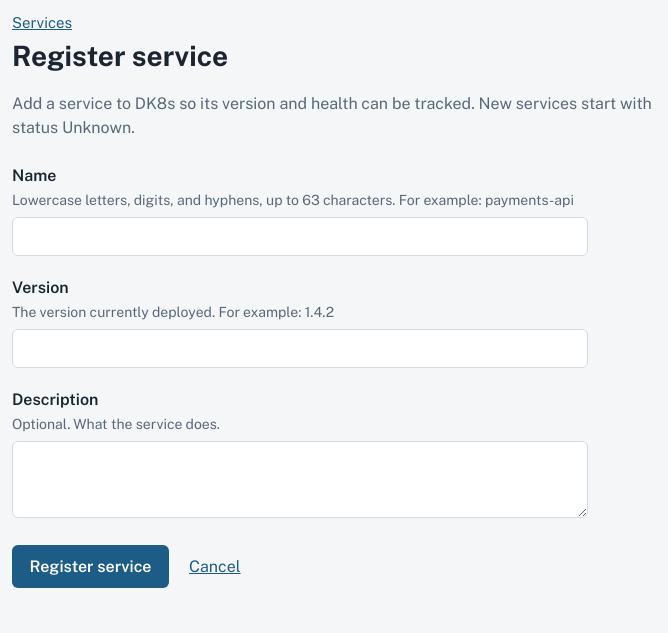
it: RegisterServicePage › shows backend validation errors next to the fields
Type "Payments API" into the field labelled "Name".
click(300, 237); type("Payments API")  # box [12,218,588,256]
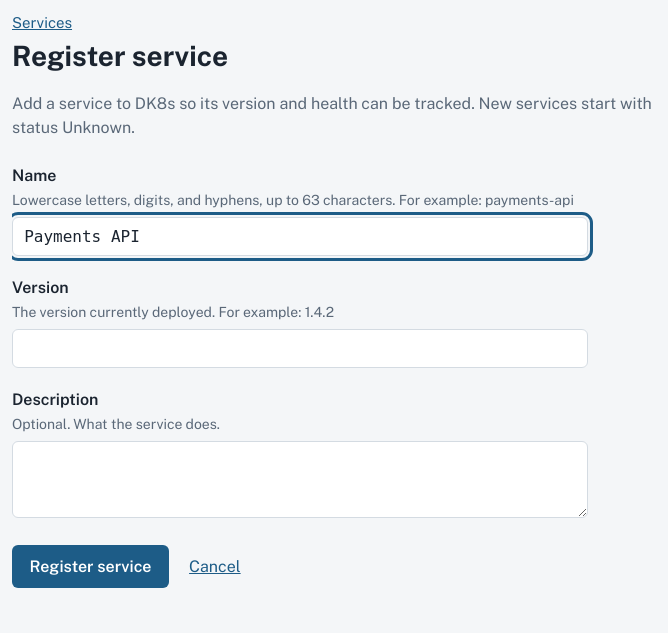
Type "1.4.2" into the field labelled "Version".
click(300, 349); type("1.4.2")  # box [12,330,588,368]
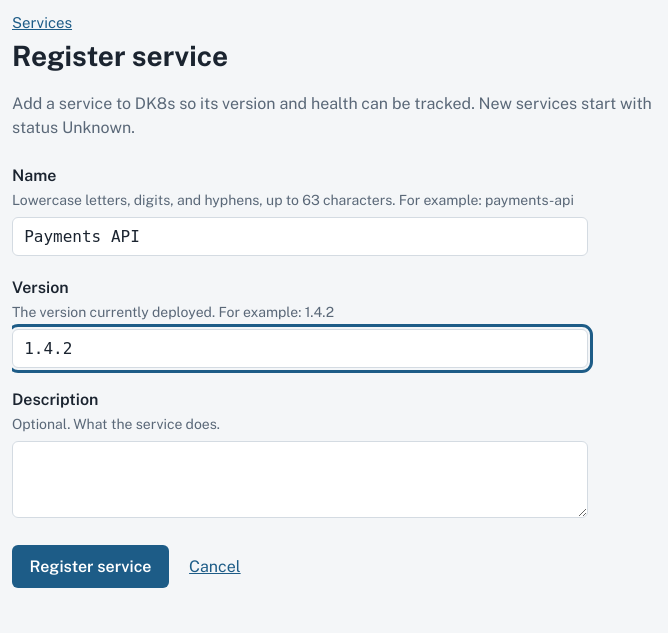
Click the button "Register service".
click(91, 567)  # box [12,545,169,588]
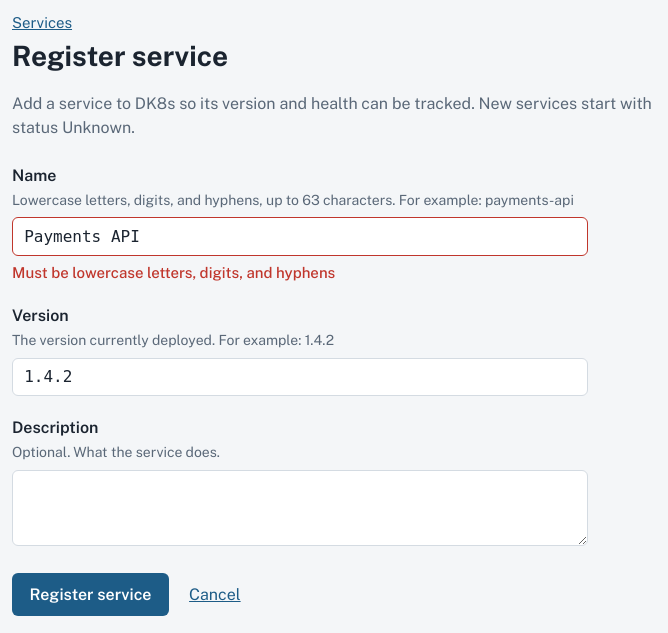
Check: the text "must be lowercase letters, digits, and hyphens" is shown, box [12,264,335,281]
